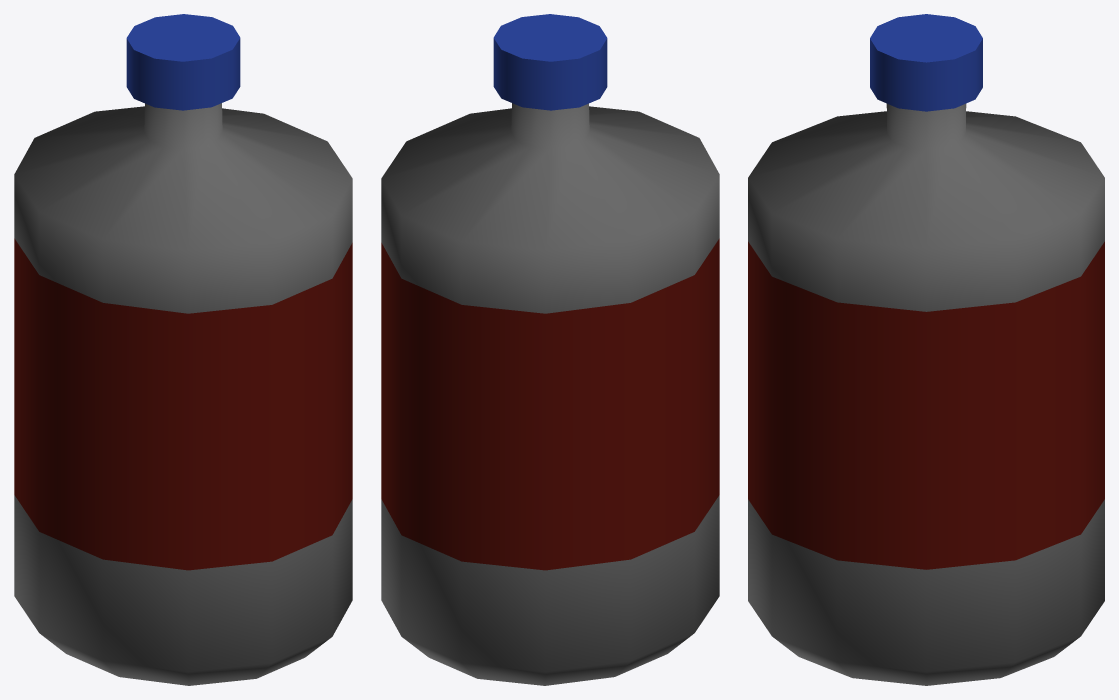
File: botella de cloro.fbx
3 views of the same model, side by side, from view 1: azimuth 30°, elevation 25°; view 2: azimuth 150°, elevation 25°; view 3: azimuth 270°, elevation 25° (orthographic).
Parts seen in each view (by area): view 1: pCylinder5; view 2: pCylinder5; view 3: pCylinder5.
Boxes of the visible parts, x1,y1,x2,y2 form: pCylinder5: (14, 14, 352, 685); pCylinder5: (381, 14, 719, 685); pCylinder5: (748, 14, 1104, 685).
Bounding box in the file's own units: 36.65 × 71.3 × 39.08.
